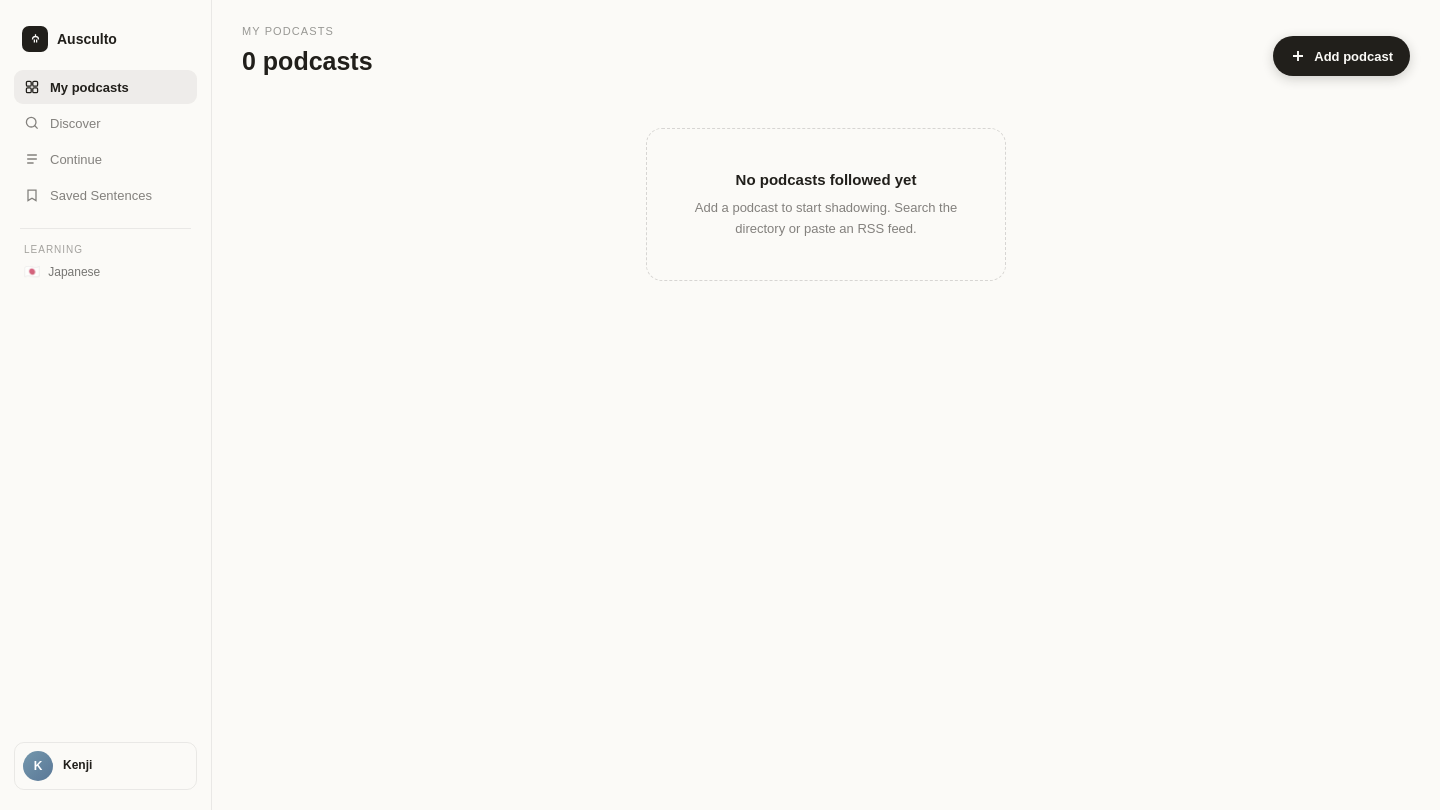
it: Library profile menu › is closed until the profile card is clicked
Click the text "Kenji" at x=78, y=765, box [63,758,92,772]
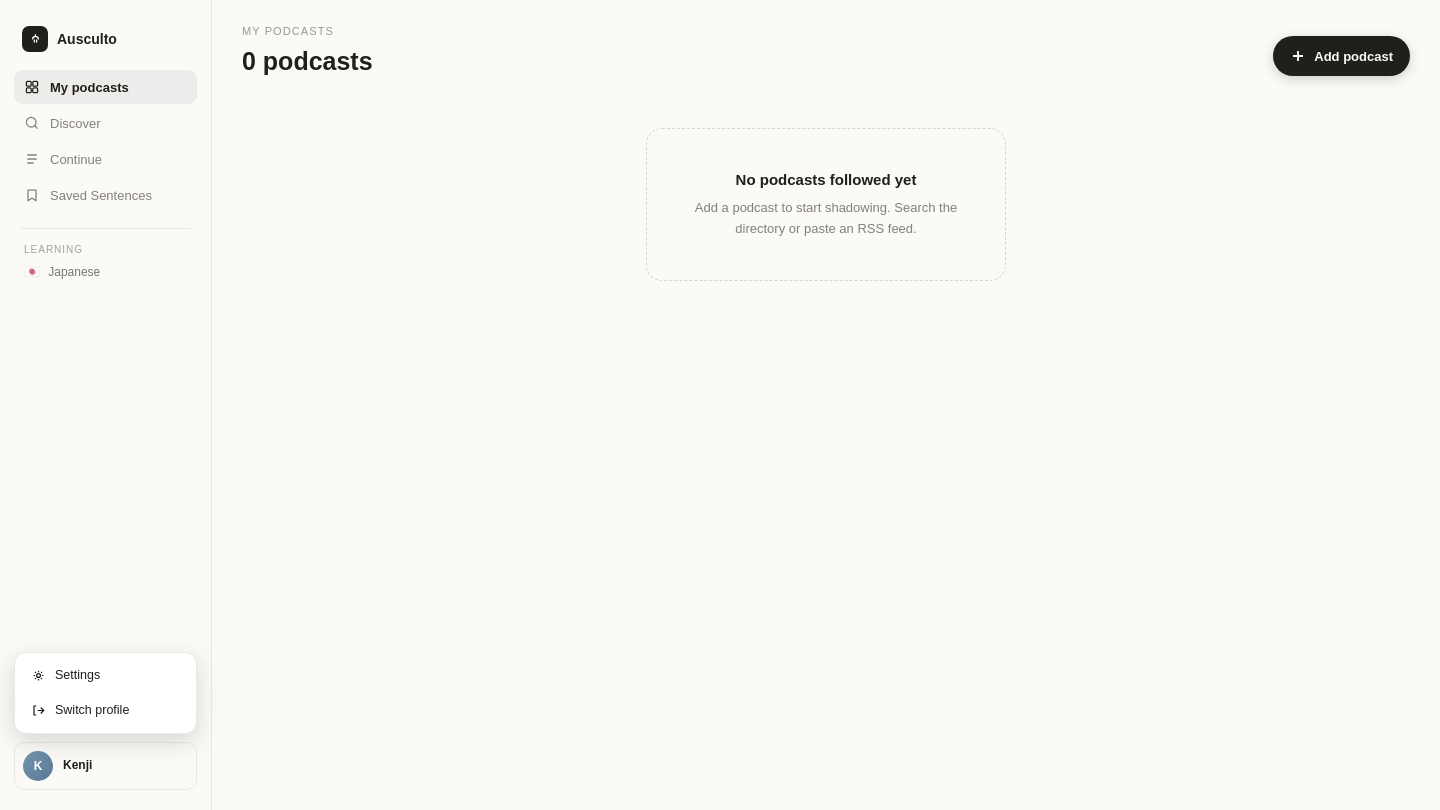
Expected: the element with test id "profile-menu" is shown, [14,652,197,734]
